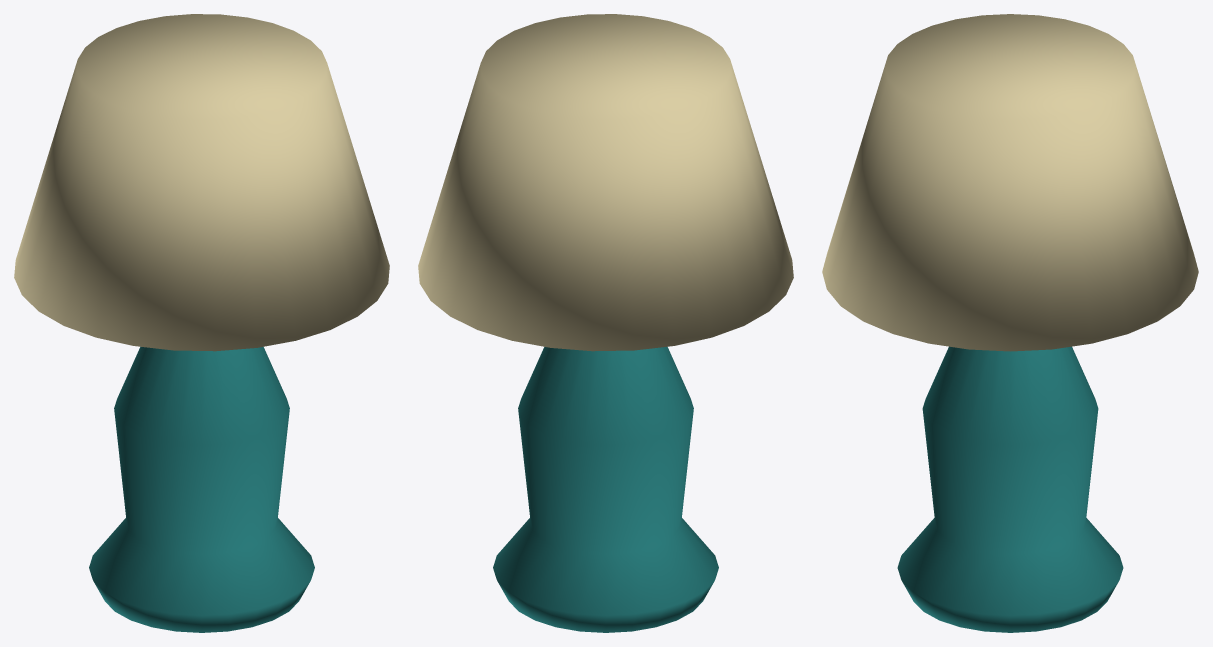
Rendered from table_lamp.glb.
The picture shows the model from 3 angles, left to right: view 1: azimuth 30°, elevation 25°; view 2: azimuth 150°, elevation 25°; view 3: azimuth 270°, elevation 25°; orthographic projection.
Parts seen in each view (by area): view 1: table_lamp; view 2: table_lamp; view 3: table_lamp.
Part boxes in pixels (x1,y1,x2,y2): table_lamp: [14, 14, 389, 632]; table_lamp: [418, 14, 793, 632]; table_lamp: [822, 14, 1198, 632].
Size of the model in its own units: 0.3 by 0.46 by 0.3.
